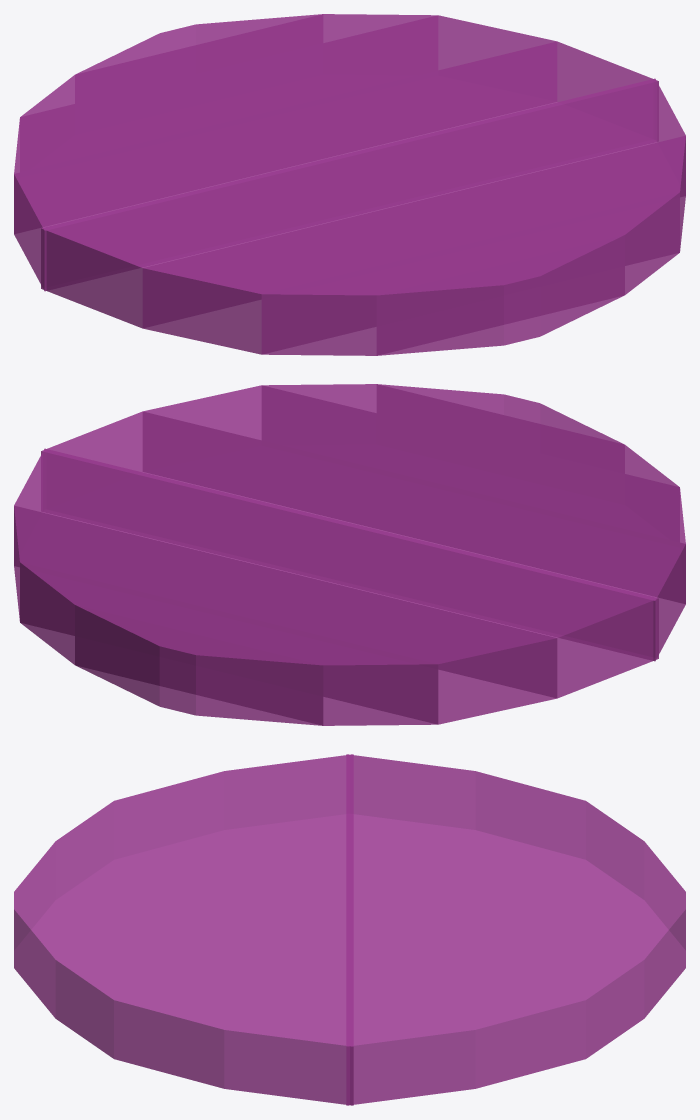
Rendered from SM_Prop_Cannon_Base_02_Collision.fbx.
3 renders of one model, top to bottom at view 1: azimuth 30°, elevation 25°; view 2: azimuth 150°, elevation 25°; view 3: azimuth 270°, elevation 25°, orthographic. The views are drawn at different scales.
Visible parts, largest first — view 1: SM_Prop_Cannon_Base_02_Collision; view 2: SM_Prop_Cannon_Base_02_Collision; view 3: SM_Prop_Cannon_Base_02_Collision.
Boxes of the visible parts, box(x1,y1,x2,y2) form: SM_Prop_Cannon_Base_02_Collision: box(14, 14, 685, 355); SM_Prop_Cannon_Base_02_Collision: box(14, 384, 685, 725); SM_Prop_Cannon_Base_02_Collision: box(14, 754, 685, 1105).
Bounding box in the file's own units: 374 × 35.15 × 363.
